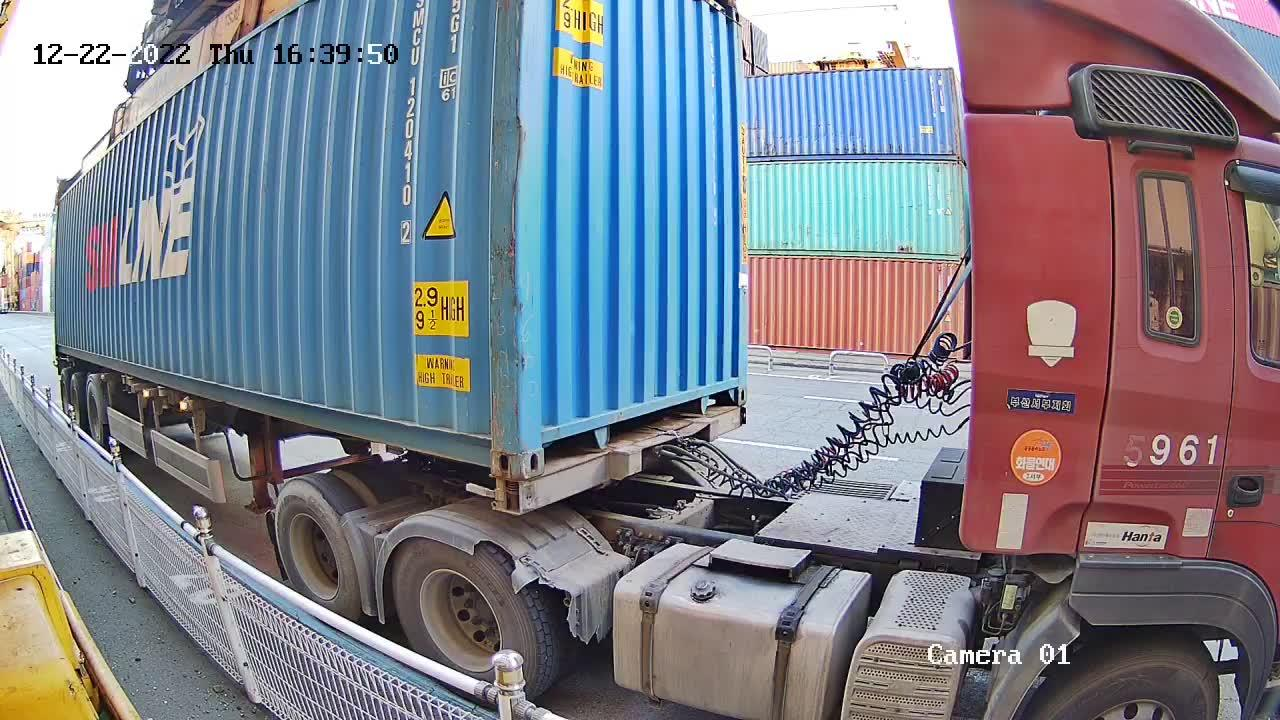Chassis: (496, 407, 744, 507)
Cone: (489, 476, 521, 511)
Hole_L: (521, 412, 565, 477)
Hole_R: (466, 412, 520, 479), (713, 362, 749, 412)
Tire: (393, 541, 539, 682), (276, 485, 357, 610)
